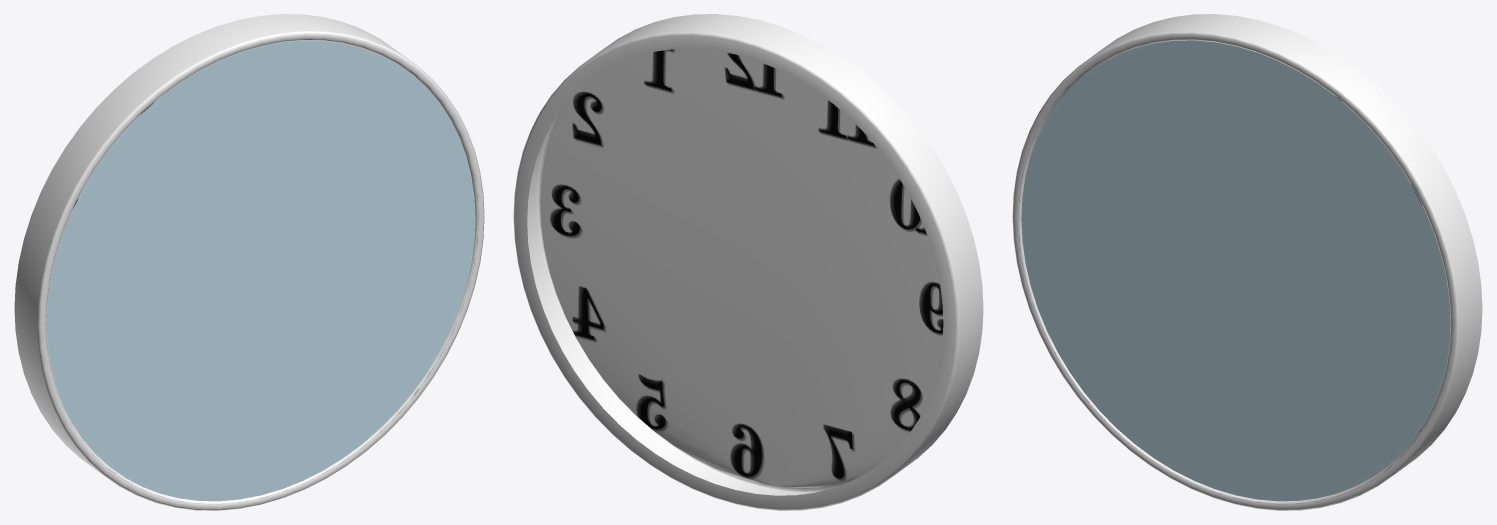
File: wall_clock.fbx
3 renders of one model, left to right at view 1: azimuth 30°, elevation 25°; view 2: azimuth 150°, elevation 25°; view 3: azimuth 330°, elevation 25°, orthographic.
Visible parts, largest first — view 1: wall_clock, clock_big_arrow; view 2: clock_big_arrow; view 3: wall_clock, clock_big_arrow.
Part boxes in pixels (x1,y1,x2,y2): wall_clock: [46, 40, 475, 501]; clock_big_arrow: [14, 14, 484, 510]; clock_big_arrow: [513, 14, 983, 510]; wall_clock: [1021, 40, 1450, 501]; clock_big_arrow: [1012, 14, 1482, 510].
Bounding box in the file's own units: 38.74 × 38.74 × 3.89.
2 materials, 2 textured.
